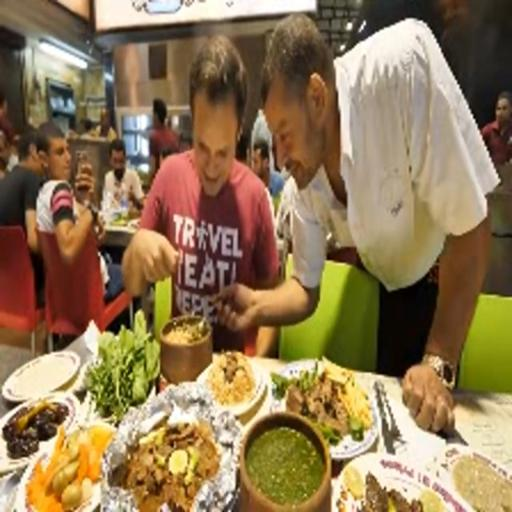nao-violencia: (113, 9, 505, 424)
